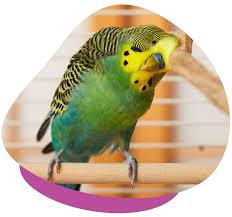budgie: (34, 25, 180, 182)
